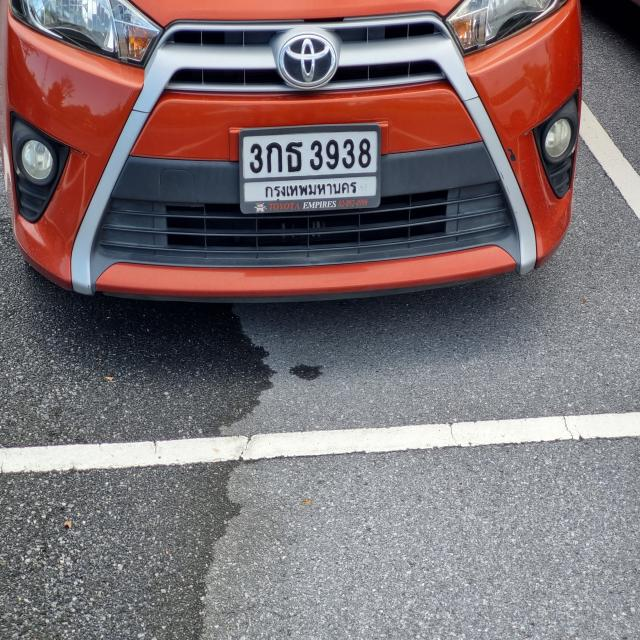license_plate: (240, 128, 382, 209)
